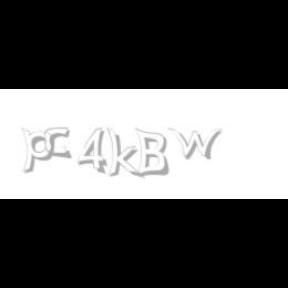4: (76, 128, 107, 174)
B: (135, 128, 169, 178)
c: (44, 128, 74, 160)
k: (106, 128, 144, 180)
p: (22, 128, 58, 174)
w: (168, 128, 226, 160)
